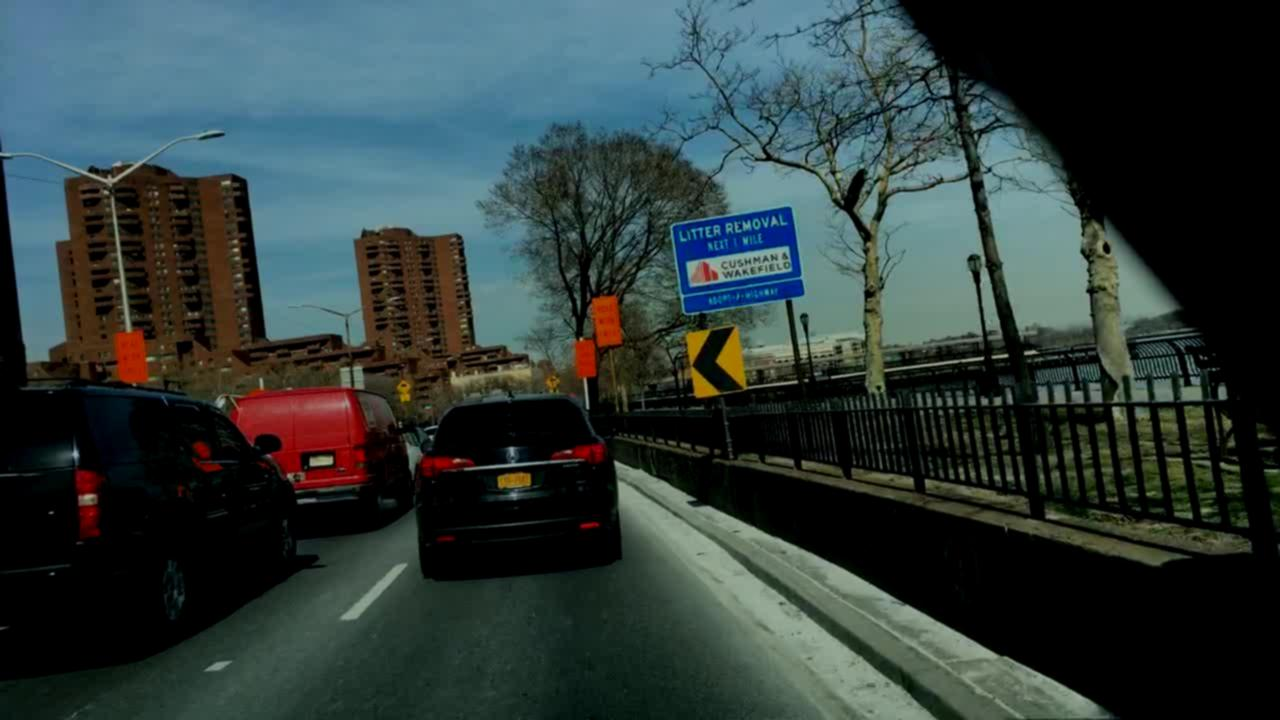acura: (502, 446, 525, 468)
